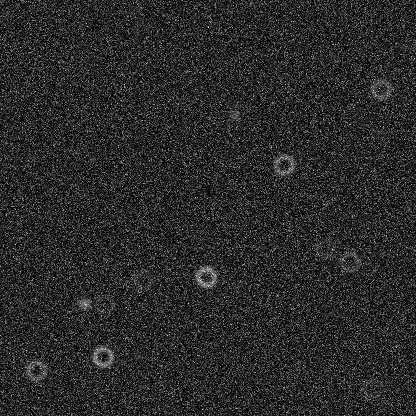Ring: (171, 221, 195, 245), (318, 188, 342, 212)
Spot: (50, 228, 66, 244), (245, 199, 261, 215), (60, 365, 76, 381), (221, 266, 237, 282), (64, 215, 80, 231), (387, 266, 403, 282), (178, 55, 194, 71), (118, 376, 134, 392), (332, 167, 348, 183), (367, 355, 383, 371), (351, 230, 367, 246), (349, 160, 365, 176), (124, 196, 140, 212), (79, 254, 95, 270), (114, 12, 130, 28), (181, 279, 197, 295), (309, 17, 325, 33), (240, 116, 256, 132)
